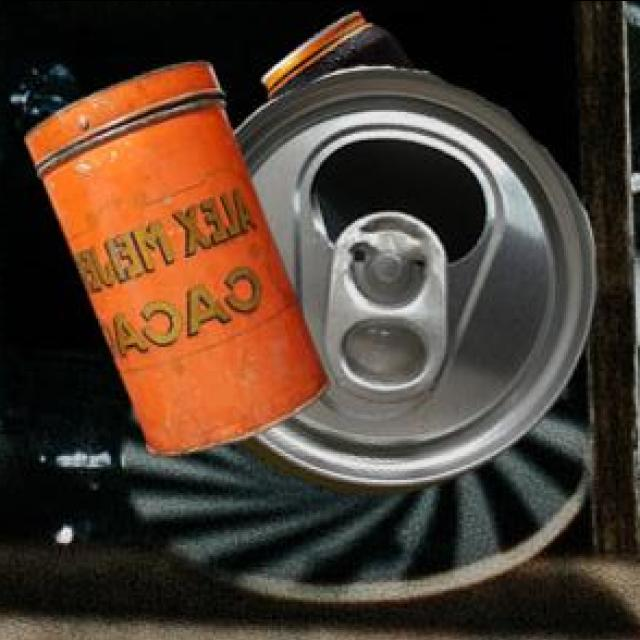logam: (236, 69, 602, 497), (29, 66, 332, 458), (264, 14, 419, 103)
